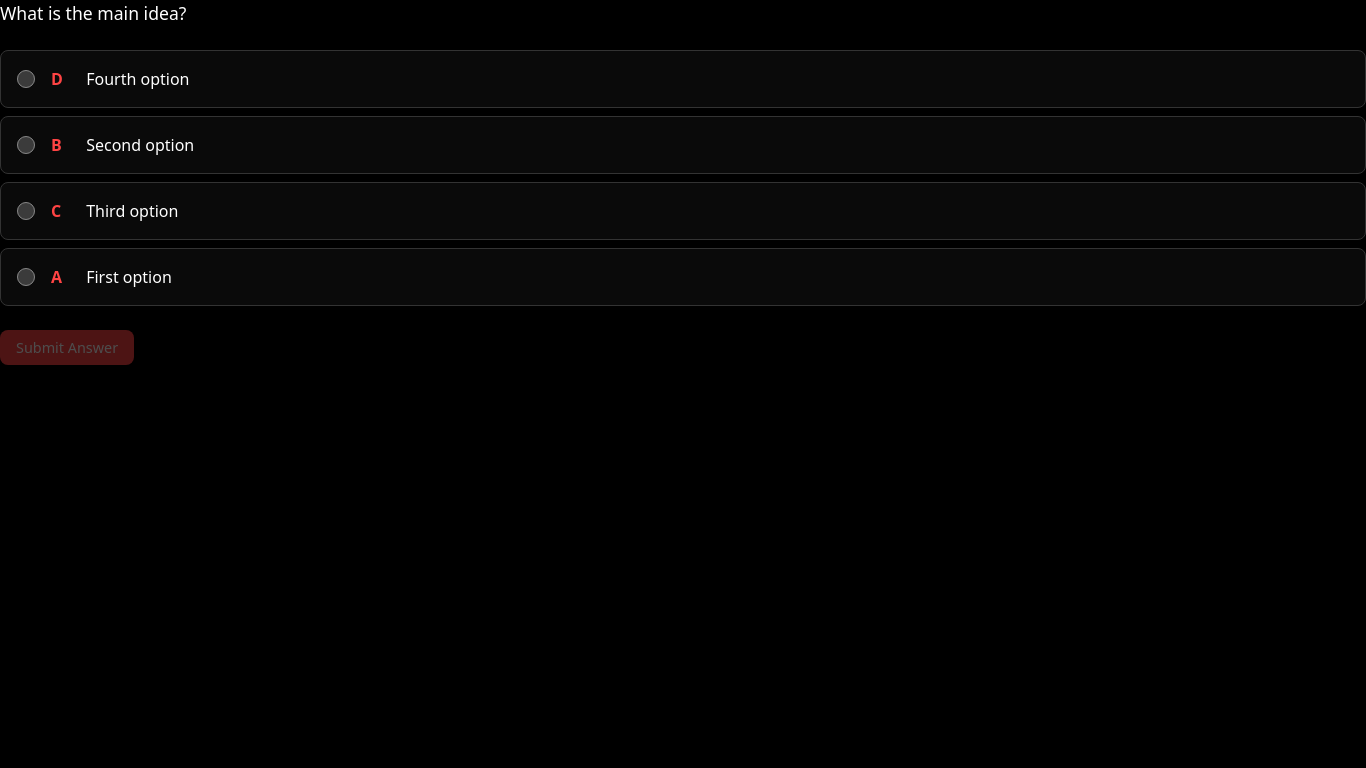
Test: MCQQuestion › enables submit after selecting an option
The image size is (1366, 768).
What coordinates should you click on to do the following:
click the text "First option"
I would click on:
 (129, 277)
Its box is [86,266,172,288].
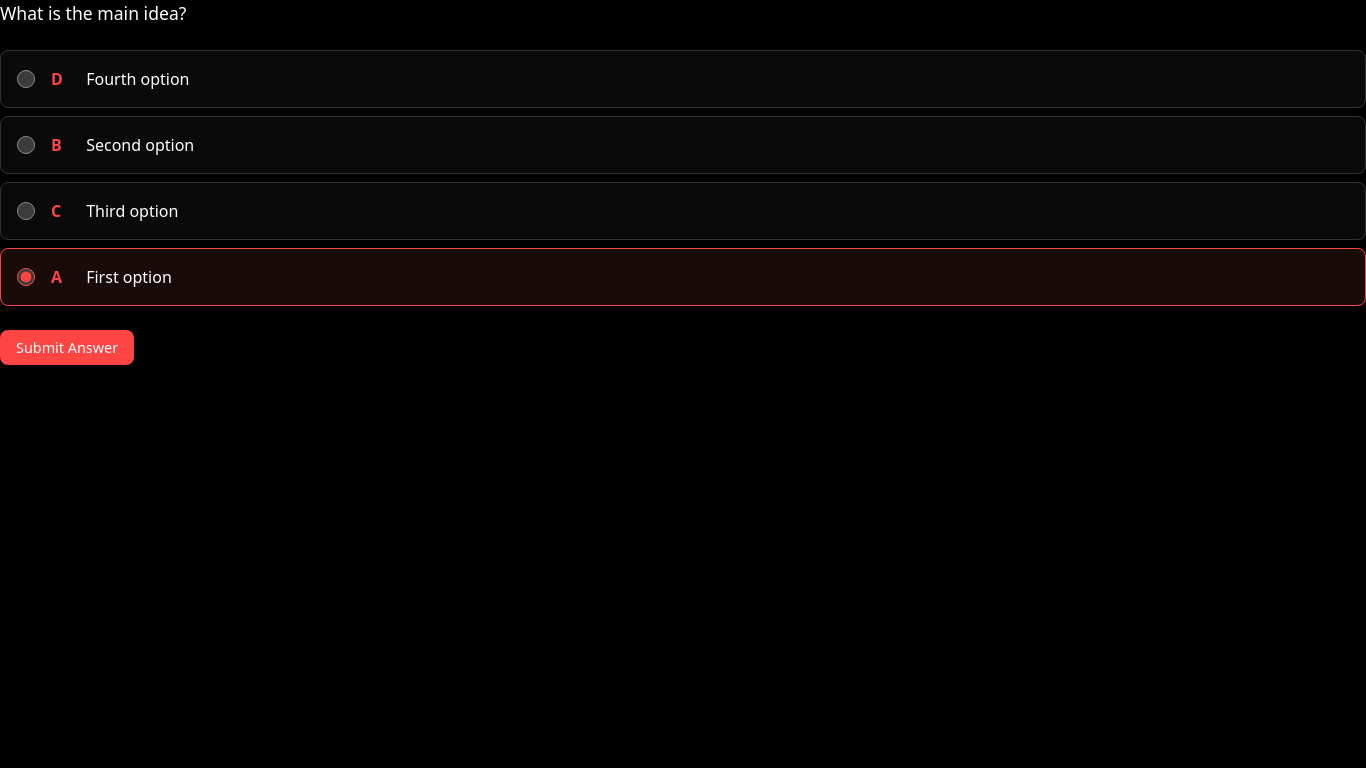
Expected: the button "Submit Answer" is enabled, [0,330,134,365]
